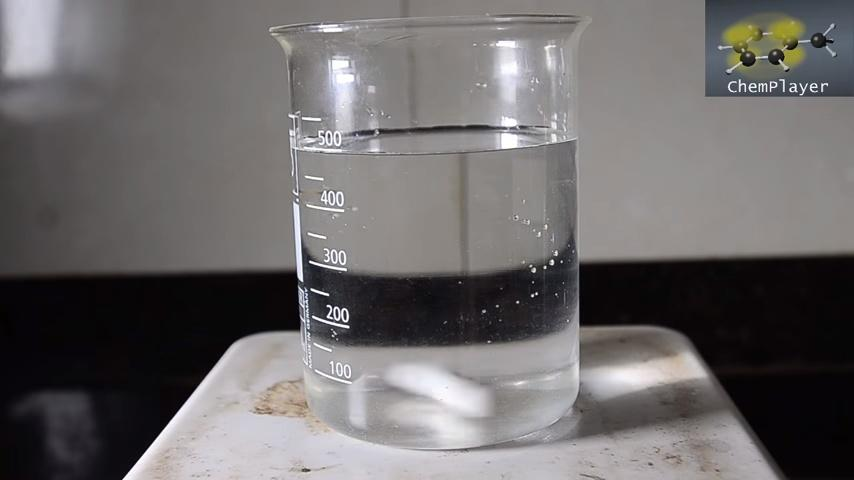Beaker: (265, 4, 613, 452)
